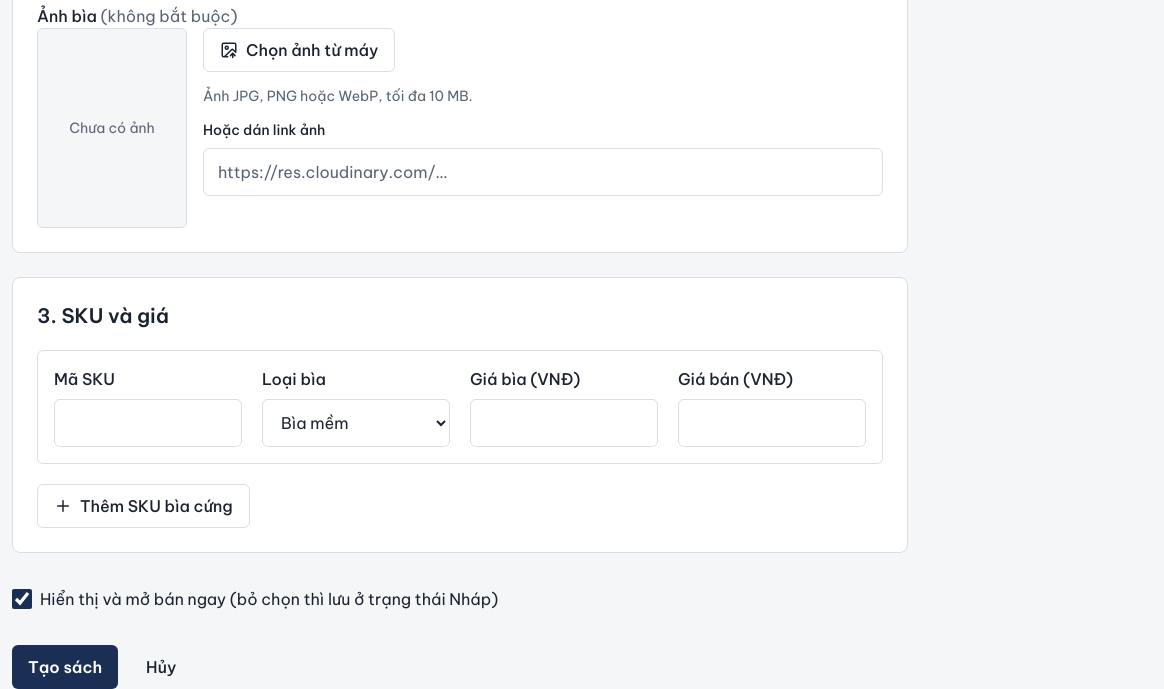
QuickBookCreate › điền sẵn nhà xuất bản lần trước và báo lỗi từng ô khi thiếu
(page scrolled)
Click the button "Tạo sách" at {"x": 65, "y": 667}, box [12, 645, 118, 688]
(page scrolled)
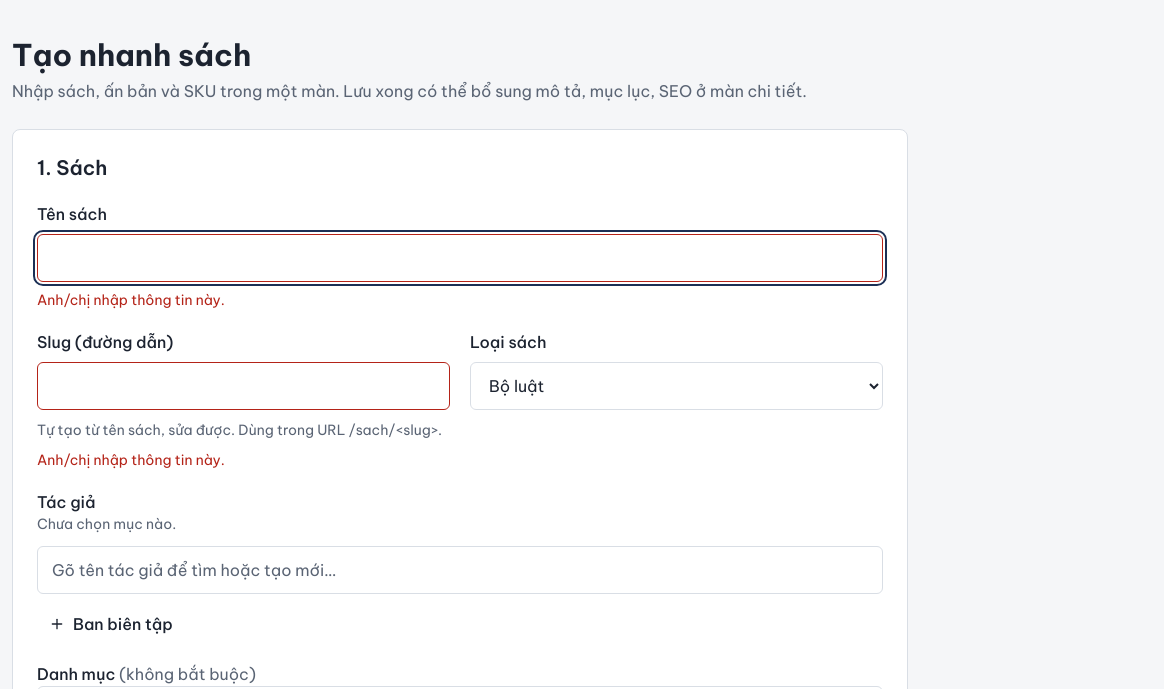
Check: the 1st text "Anh/chị nhập thông tin này." is shown, box [37, 291, 225, 309]
